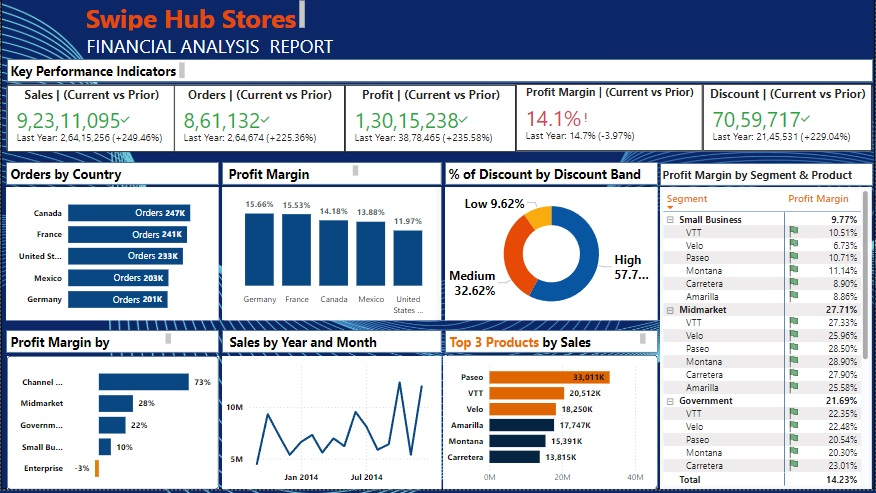

What the dashboard file says about the page in this screenshot:
{"tool":"powerbi","page":{"name":"Swipe Hub Store","canvas":[1280,720],"ordinal":0},"visuals":[{"type":"shape","box":[8.8,90.7,1267.3,33.7],"z":0},{"type":"shape","box":[6.6,127.5,1268.4,99.4],"z":1000},{"type":"shape","box":[8.3,524.9,309.7,195.4],"z":2000},{"type":"shape","box":[6.6,486.8,311.3,33.1],"z":3000},{"type":"shape","box":[6.6,241.8,311.3,33.1],"z":4000},{"type":"shape","box":[6.6,278.2,311.3,195.4],"z":5000},{"type":"shape","box":[326.2,278.2,311.3,195.4],"z":6000},{"type":"shape","box":[649.1,278.2,311.3,195.4],"z":7000},{"type":"shape","box":[322.9,241.8,321.2,33.1],"z":8000},{"type":"shape","box":[649.1,241.8,311.3,33.1],"z":9000},{"type":"shape","box":[963.7,243.4,311.3,33.1],"z":10000},{"type":"shape","box":[322.9,486.8,321.2,33.1],"z":11000},{"type":"shape","box":[322.9,524.9,321.2,195.4],"z":12000},{"type":"shape","box":[649.1,486.8,311.3,33.1],"z":13000},{"type":"shape","box":[649.1,524.6,311.3,195.4],"z":14000},{"type":"textbox","box":[120,48.3,383.4,54.1],"z":15000},{"type":"textbox","box":[119,0,331,54],"z":16000},{"type":"textbox","box":[8.8,90.7,264.9,33.7],"z":17000},{"type":"kpi","title":"Sales | (Current vs Prior)","fields":{"Indicator":["Analysis.Sales Amount"],"TrendLine":["Date Table.Year"],"Goal":["Analysis.Sales Amount LY"]},"box":[8.3,129.2,246.7,97.7],"z":18000},{"type":"kpi","title":"Orders | (Current vs Prior)","fields":{"TrendLine":["Date Table.Year"],"Indicator":["Analysis.Orders"],"Goal":["Analysis.Orders LY"]},"box":[253.4,129.2,250,97.7],"z":19000},{"type":"kpi","title":"Profit | (Current vs Prior)","fields":{"TrendLine":["Date Table.Year"],"Indicator":["Analysis.Profit"],"Goal":["Analysis.Profit LY"]},"box":[503.4,129.2,250,97.7],"z":20000},{"type":"kpi","title":"Profit Margin | (Current vs Prior)","fields":{"TrendLine":["Date Table.Year"],"Indicator":["Analysis.Profit Margin"],"Goal":["Analysis.Profit Margin LY"]},"box":[753.4,127.5,273.2,97.7],"z":21000},{"type":"kpi","title":"Discount | (Current vs Prior)","fields":{"TrendLine":["Date Table.Year"],"Goal":["Analysis.Discount Offer LY"],"Indicator":["Analysis.Discount Offer"]},"box":[1026.6,127.5,246.7,97.7],"z":22000},{"type":"textbox","box":[8.3,241.8,200.4,36.4],"z":23000},{"type":"textbox","box":[327.9,241.8,200.4,36.4],"z":24000},{"type":"textbox","box":[649.8,241.5,308.8,36.6],"z":25000},{"type":"textbox","box":[8.3,486.8,245.1,36.4],"z":26000},{"type":"textbox","box":[329.5,486.8,255,36.4],"z":27000},{"type":"textbox","box":[651.2,487.3,297.1,36.6],"z":28000},{"type":"barChart","fields":{"Category":["financials.Country"],"Y":["Analysis.Orders"]},"box":[6.6,278.2,311.3,195.4],"z":29000},{"type":"clusteredColumnChart","fields":{"Y":["Analysis.Profit Margin"],"Category":["financials.Country"]},"box":[322.9,278.2,321.2,195.4],"z":30000},{"type":"donutChart","fields":{"Category":["financials.Discount Band"],"Y":["Analysis.Discount Offer"]},"box":[649.1,278.2,311.3,195.4],"z":31000},{"type":"barChart","fields":{"Category":["financials.Segment"],"Y":["Analysis.Profit Margin"]},"box":[8.3,524.9,311.3,195.4],"z":32000},{"type":"lineChart","fields":{"Category":["Date Table.Date.Variation.Date Hierarchy.Year","Date Table.Date.Variation.Date Hierarchy.Month"],"Y":["Analysis.Sales Amount"]},"box":[322.9,524.9,321.2,195.4],"z":33000},{"type":"barChart","fields":{"Category":["financials.Product"],"Y":["Analysis.Sales Amount"]},"box":[647.5,524.9,311.3,195.4],"z":34000},{"type":"pivotTable","fields":{"Rows":["financials.Segment","financials.Product"],"Values":["Analysis.Profit Margin"]},"box":[964.4,278,310.2,442],"z":35000},{"type":"textbox","box":[962.9,244.4,314.6,36.6],"z":36000}]}

Visuals, with their boxes in screenshot pixels (x1, y1, x2, y2), scaled from the page's 1280x720 canvas onto the 876x493 screenshot:
shape: [left=6, top=62, right=873, bottom=85]
shape: [left=5, top=87, right=873, bottom=155]
shape: [left=6, top=359, right=218, bottom=492]
shape: [left=5, top=333, right=218, bottom=356]
shape: [left=5, top=166, right=218, bottom=188]
shape: [left=5, top=190, right=218, bottom=324]
shape: [left=223, top=190, right=436, bottom=324]
shape: [left=444, top=190, right=657, bottom=324]
shape: [left=221, top=166, right=441, bottom=188]
shape: [left=444, top=166, right=657, bottom=188]
shape: [left=660, top=167, right=873, bottom=189]
shape: [left=221, top=333, right=441, bottom=356]
shape: [left=221, top=359, right=441, bottom=492]
shape: [left=444, top=333, right=657, bottom=356]
shape: [left=444, top=359, right=657, bottom=492]
textbox: [left=82, top=33, right=345, bottom=70]
textbox: [left=81, top=0, right=308, bottom=37]
textbox: [left=6, top=62, right=187, bottom=85]
"Sales | (Current vs Prior)" kpi: [left=6, top=88, right=175, bottom=155]
"Orders | (Current vs Prior)" kpi: [left=173, top=88, right=345, bottom=155]
"Profit | (Current vs Prior)" kpi: [left=345, top=88, right=516, bottom=155]
"Profit Margin | (Current vs Prior)" kpi: [left=516, top=87, right=703, bottom=154]
"Discount | (Current vs Prior)" kpi: [left=703, top=87, right=871, bottom=154]
textbox: [left=6, top=166, right=143, bottom=190]
textbox: [left=224, top=166, right=362, bottom=190]
textbox: [left=445, top=165, right=656, bottom=190]
textbox: [left=6, top=333, right=173, bottom=358]
textbox: [left=226, top=333, right=400, bottom=358]
textbox: [left=446, top=334, right=649, bottom=359]
barChart - financials.Country x Analysis.Orders: [left=5, top=190, right=218, bottom=324]
clusteredColumnChart - Analysis.Profit Margin x financials.Country: [left=221, top=190, right=441, bottom=324]
donutChart - financials.Discount Band x Analysis.Discount Offer: [left=444, top=190, right=657, bottom=324]
barChart - financials.Segment x Analysis.Profit Margin: [left=6, top=359, right=219, bottom=492]
lineChart - Date Table.Date.Variation.Date Hierarchy.Year x Date Table.Date.Variation.Date Hierarchy.Month: [left=221, top=359, right=441, bottom=492]
barChart - financials.Product x Analysis.Sales Amount: [left=443, top=359, right=656, bottom=492]
pivotTable - financials.Segment x financials.Product: [left=660, top=190, right=872, bottom=492]
textbox: [left=659, top=167, right=874, bottom=192]
